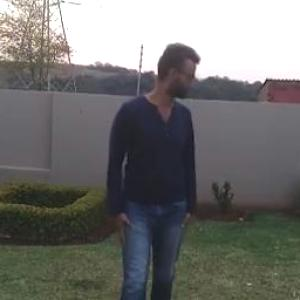follow: (103, 33, 209, 299)
